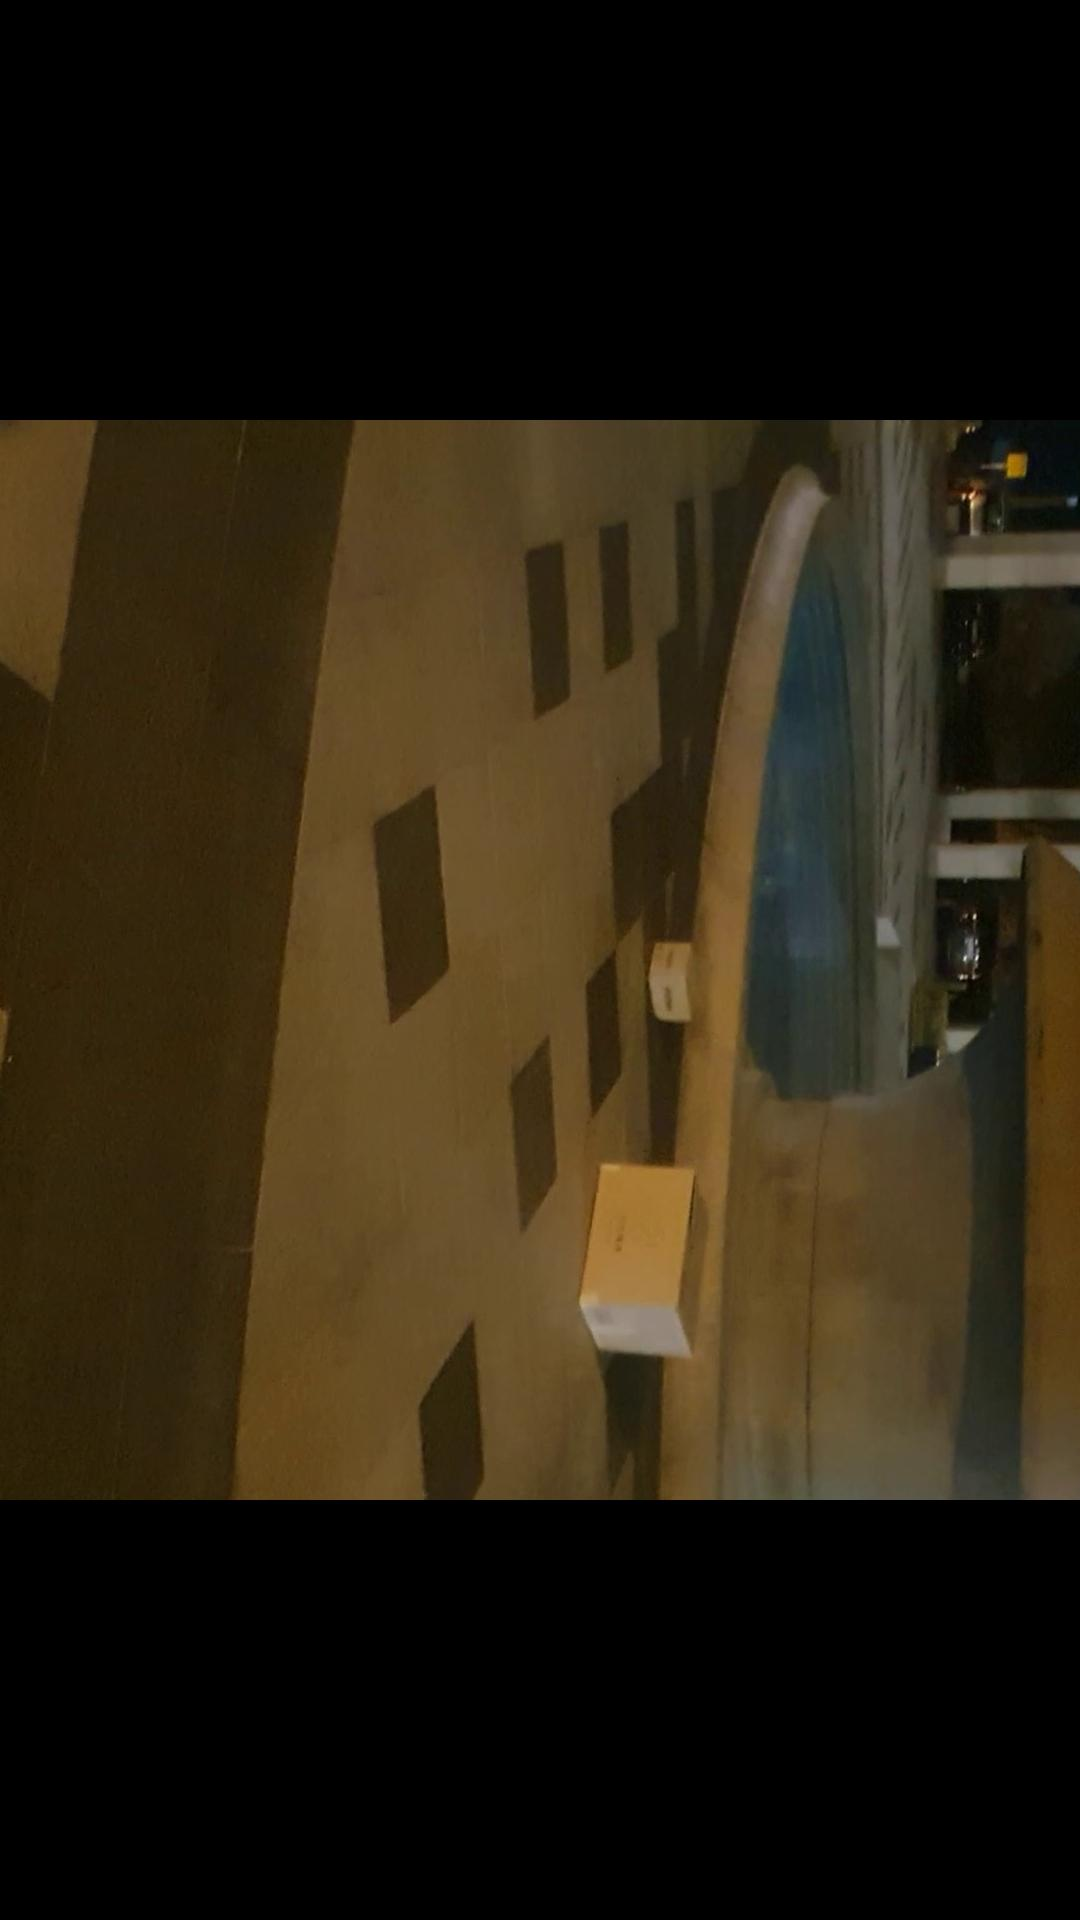Box: (564, 1168, 720, 1371), (638, 931, 715, 1025)
